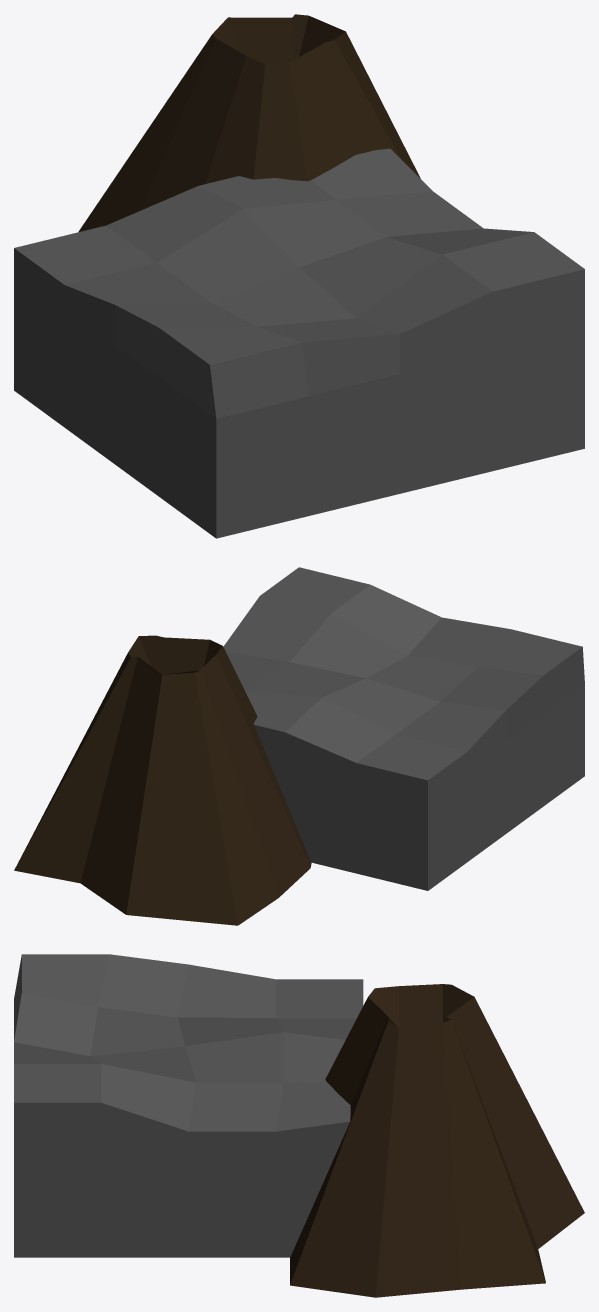
File: Vulkan.fbx
3 views of the same model, one above another, from view 1: azimuth 30°, elevation 25°; view 2: azimuth 150°, elevation 25°; view 3: azimuth 270°, elevation 25° (orthographic). The views are drawn at different scales.
Visible parts, largest first — view 1: Asche, Vulkan; view 2: Asche, Vulkan; view 3: Asche, Vulkan.
Part boxes in pixels (box(x1,y1,x2,y2)): Asche: box(14, 148, 584, 538); Vulkan: box(78, 14, 420, 232); Asche: box(223, 567, 584, 890); Vulkan: box(14, 635, 311, 925); Asche: box(14, 954, 363, 1257); Vulkan: box(290, 984, 584, 1297).
Bounding box in the file's own units: 1646 × 878 × 2032.
